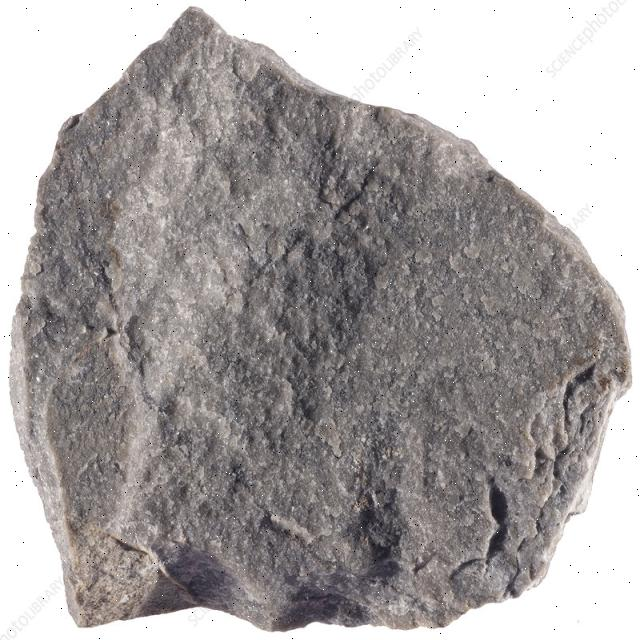Sedimentary: (9, 1, 633, 627)
